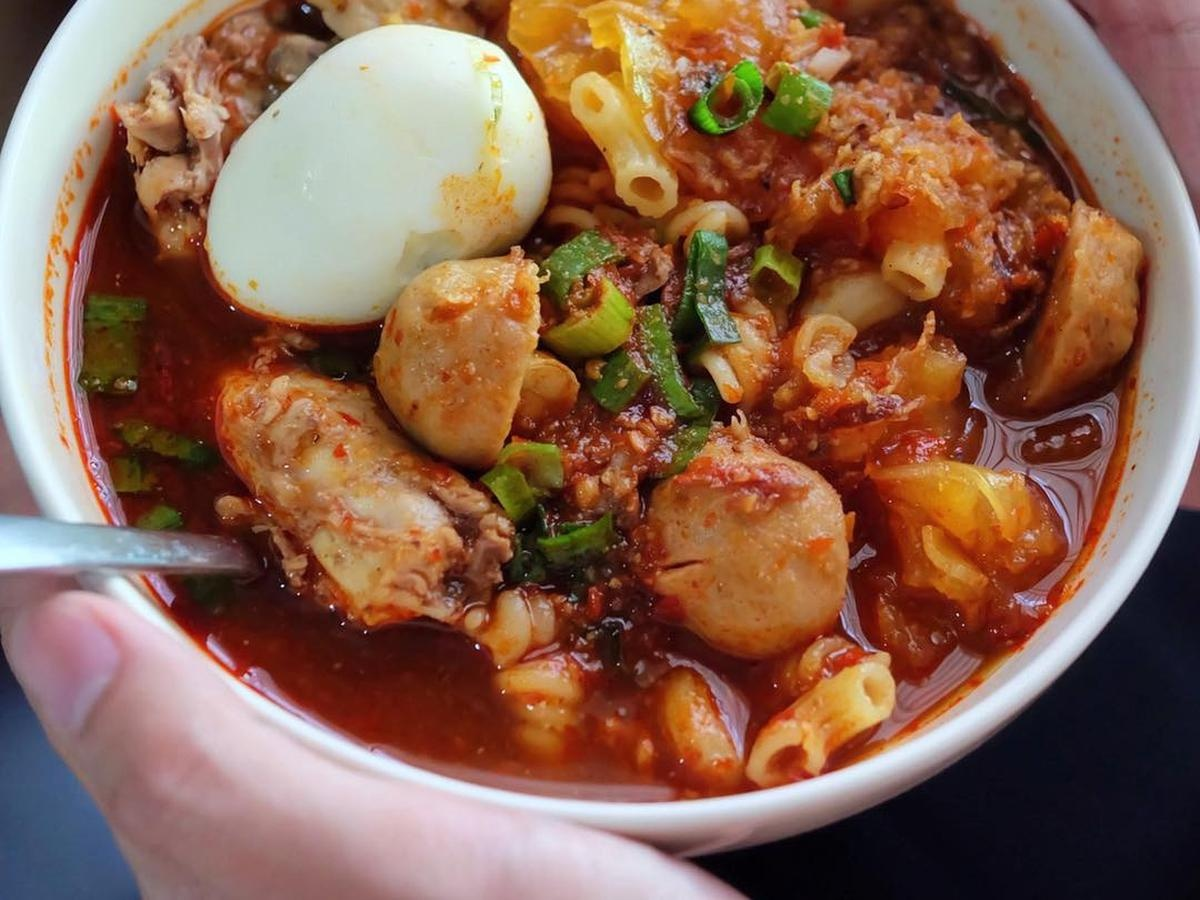seblak: (114, 2, 1147, 784)
